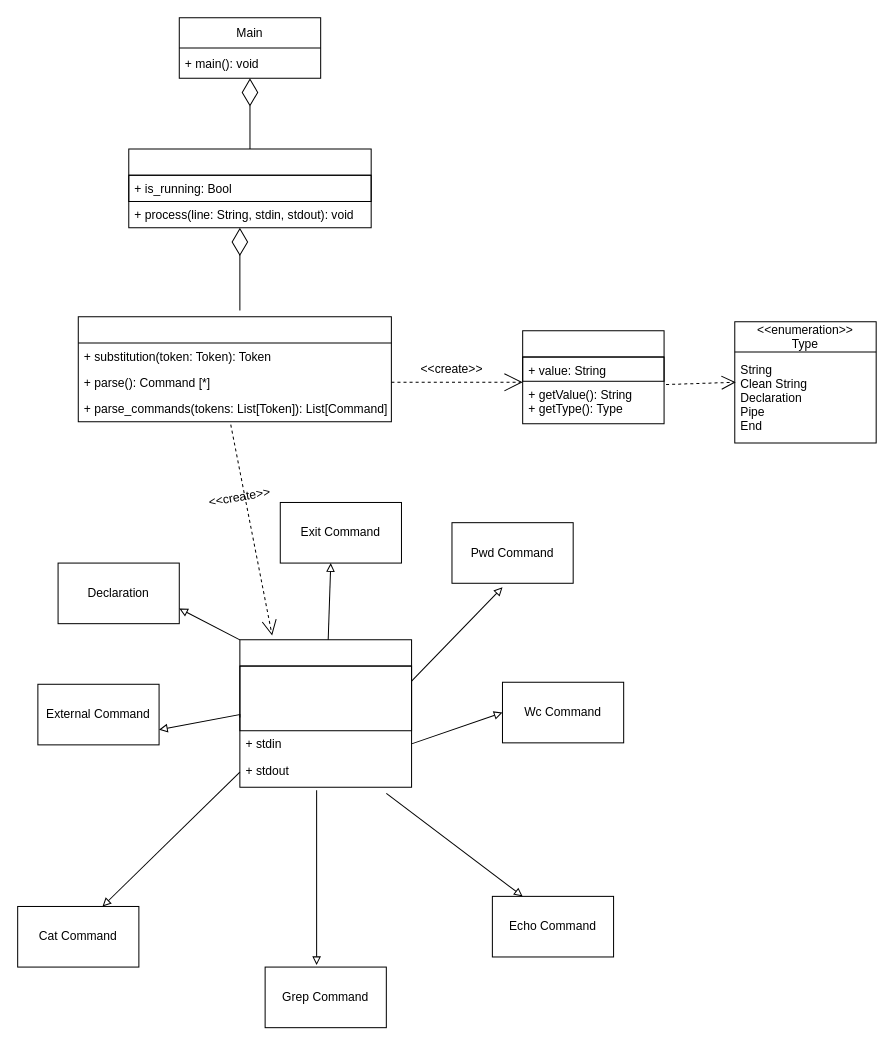
The diagram is 894 pixels wide and 1045 high, and some of its shapes have lost their labels. Here are the shapes that lost their labels. From the top down, the box of each, then its label:
(128, 148, 371, 228): CLI
(77, 316, 391, 422): Parser
(522, 330, 664, 424): Token
(239, 665, 412, 731): + init(args: List[String]): void + execute(stdin, stdout): Bool
(239, 639, 412, 787): Abstract Command
